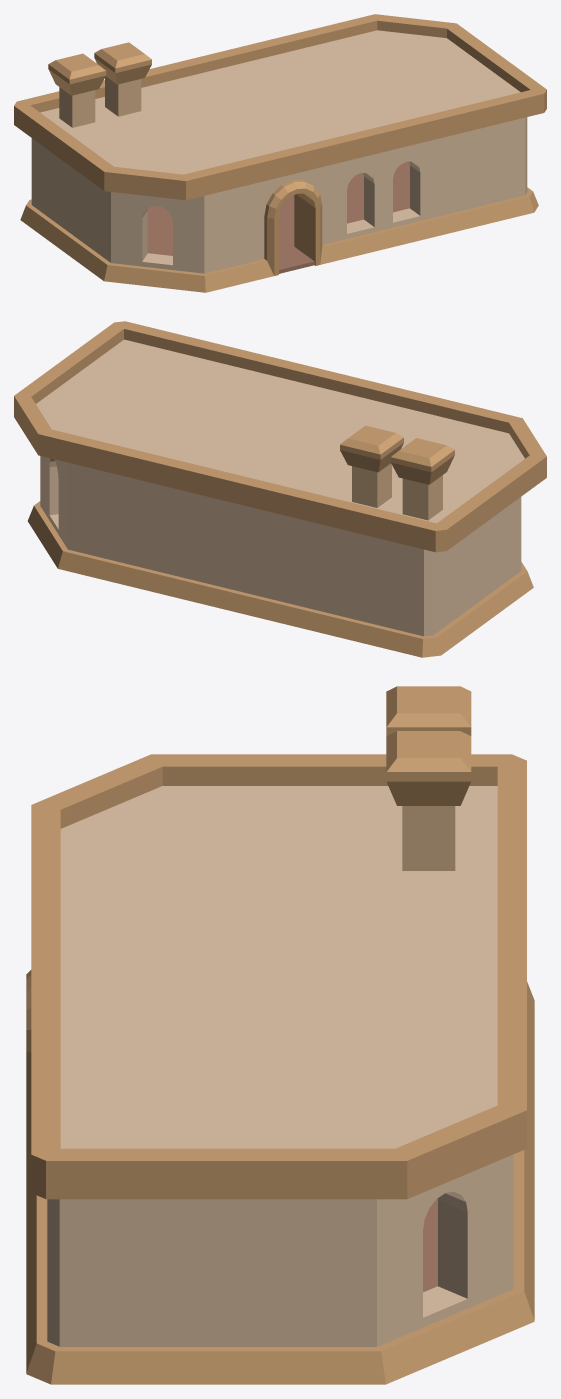
Rendered from DesertVillageHouseOne.fbx.
3 views of the same model, one above another, from view 1: azimuth 30°, elevation 25°; view 2: azimuth 150°, elevation 25°; view 3: azimuth 270°, elevation 25° (orthographic). The views are drawn at different scales.
Parts seen in each view (by area): view 1: mergedBlocks; view 2: mergedBlocks; view 3: mergedBlocks.
Part boxes in pixels (box(x1,y1,x2,y2)): mergedBlocks: box(14, 14, 546, 292); mergedBlocks: box(14, 321, 546, 657); mergedBlocks: box(26, 686, 534, 1384).
Bounding box in the file's own units: 45.38 × 17 × 24.
